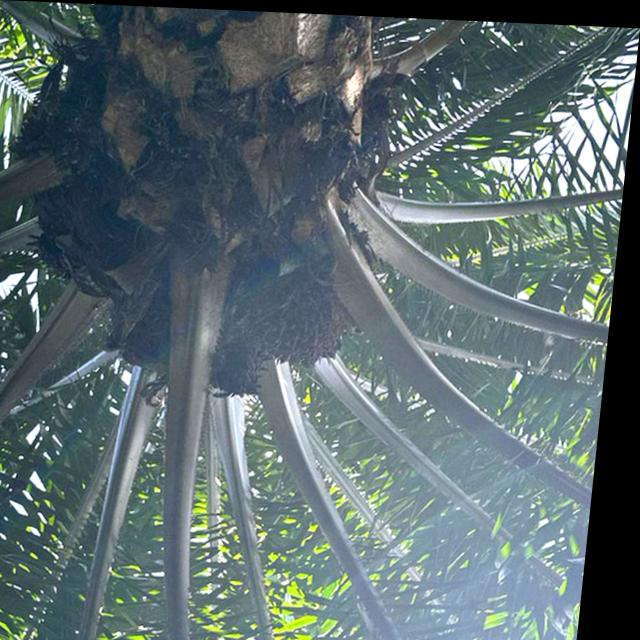ripe: (254, 258, 377, 382)
